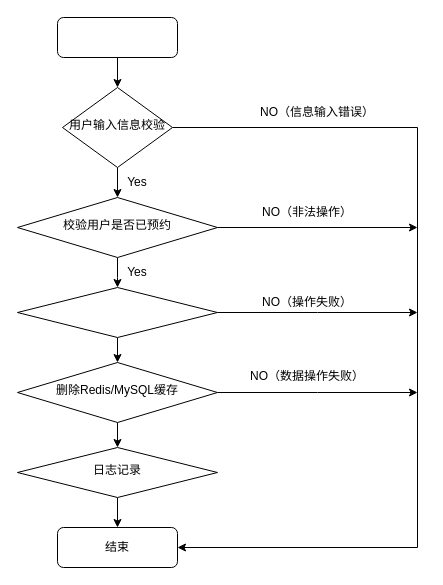
This 443x585 diagram has some shape labels left out. Here are the shapes that lost their labels. From the top down, the centre of each, then its label:
At [117,37]: "开始".
At [117,312]: "释放容量".
